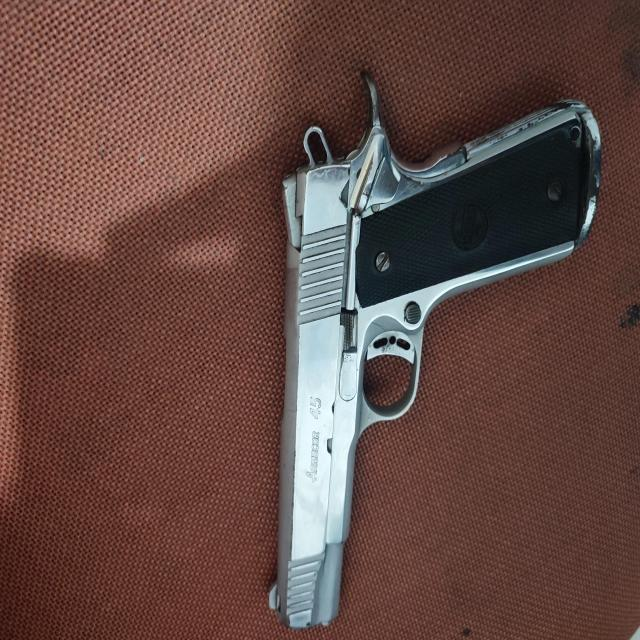pistol: (265, 64, 602, 629)
